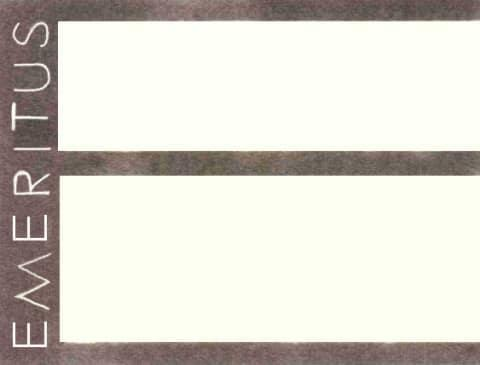Maker-Name: (9, 9, 52, 351)
